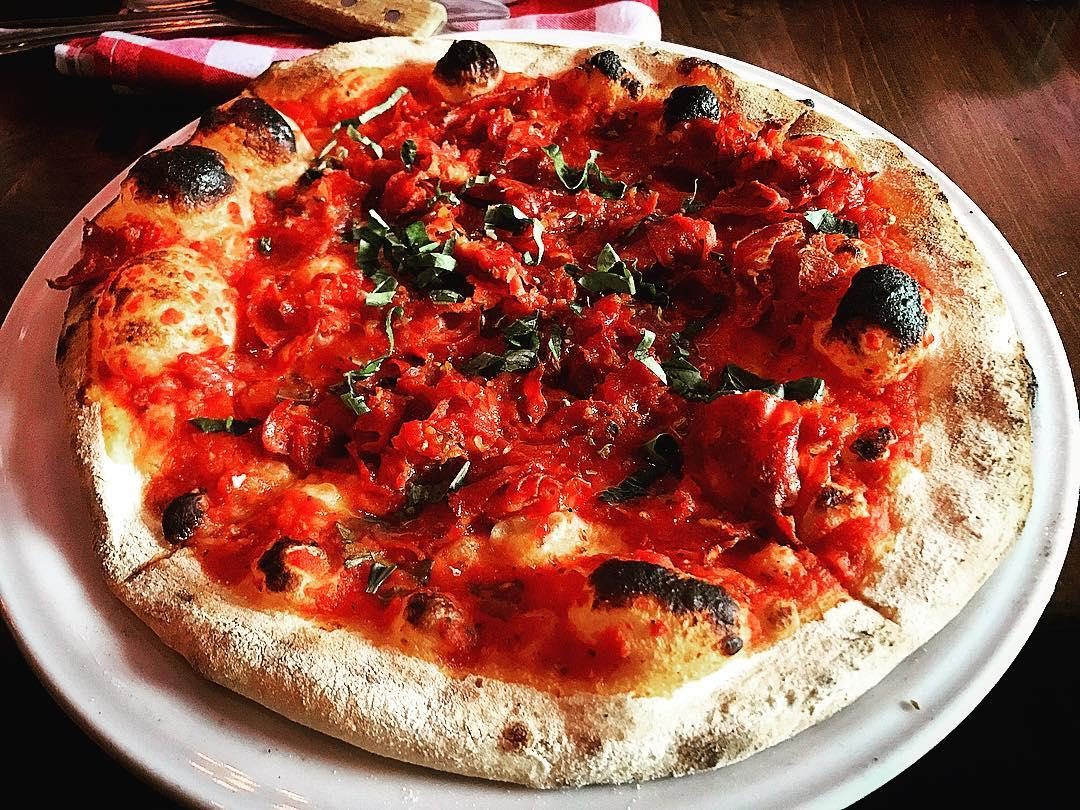Pizza: (58, 38, 1039, 799)
